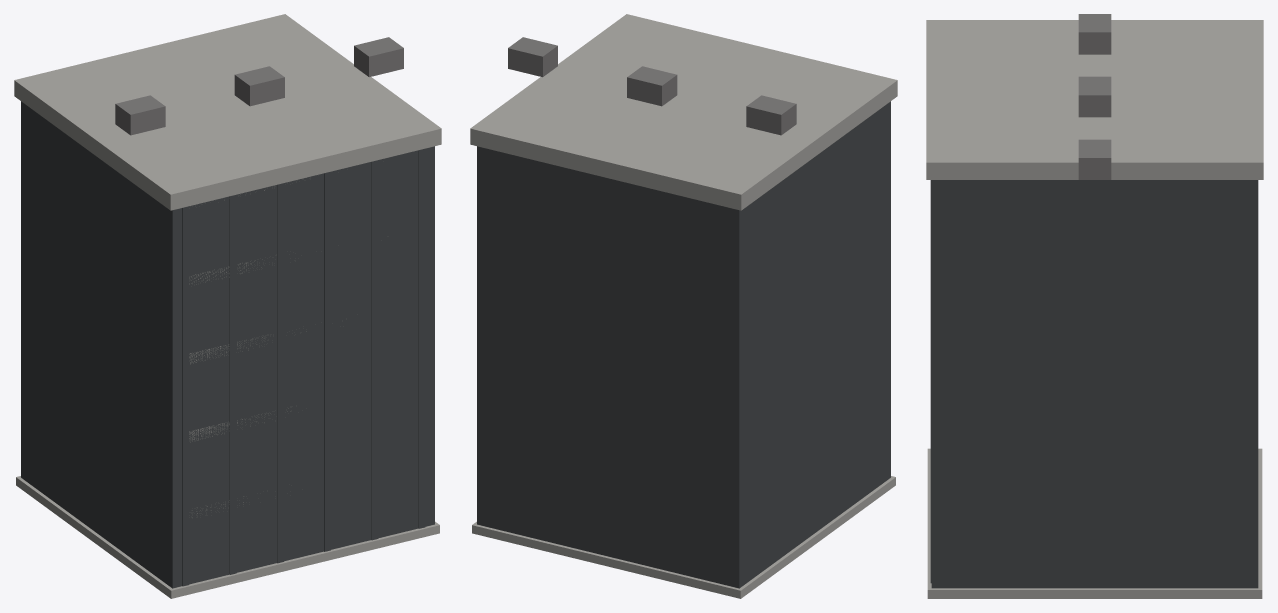
The model's file is b_tower2.glb.
The picture shows the model from 3 angles, left to right: view 1: azimuth 30°, elevation 25°; view 2: azimuth 150°, elevation 25°; view 3: azimuth 270°, elevation 25°; orthographic projection. The views are drawn at different scales.
Visible parts, largest first — view 1: Building; view 2: Building; view 3: Building.
Part boxes in pixels (box(x1,y1,x2,y2)): Building: box(14, 14, 441, 598); Building: box(470, 14, 897, 598); Building: box(926, 14, 1263, 598).
Bounding box in the file's own units: 13.91 × 18.6 × 12.4.
Materials: 5 (2 with a texture image).
